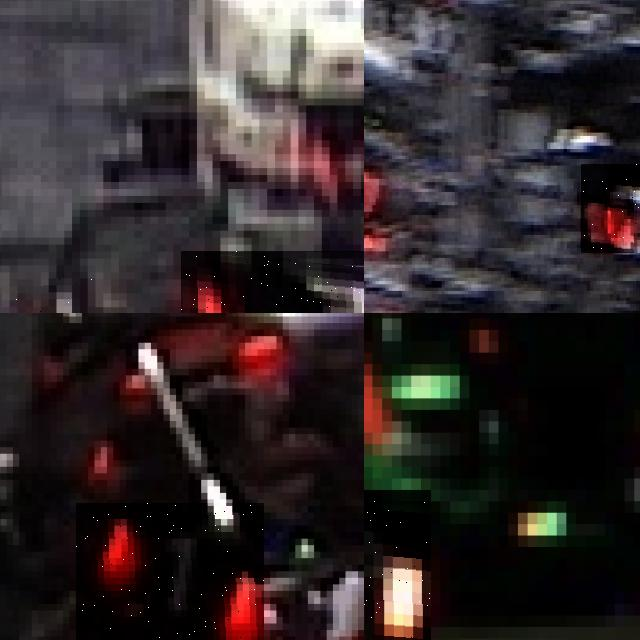R1: (76, 503, 264, 640)
R2: (581, 164, 640, 253)
R3: (181, 251, 364, 313), (9, 272, 95, 313)
Rs: (364, 490, 430, 640)
